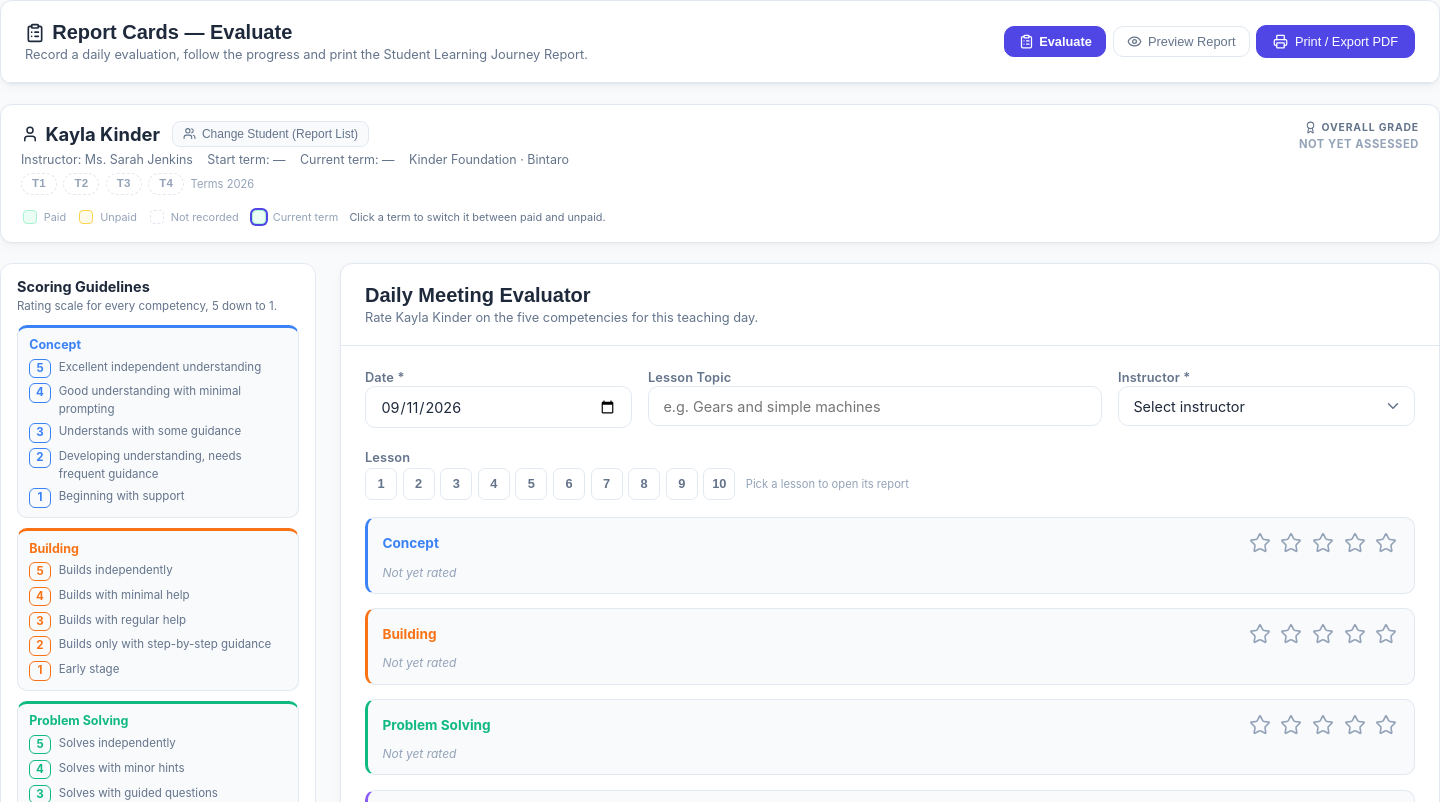
a student with no evaluations (Req 3.4) › prints NOT YET ASSESSED with no number in the preview document
The image size is (1440, 802).
Click the button "Preview Report" at (1181, 42), box top-left (1113, 26), bottom-right (1250, 57)
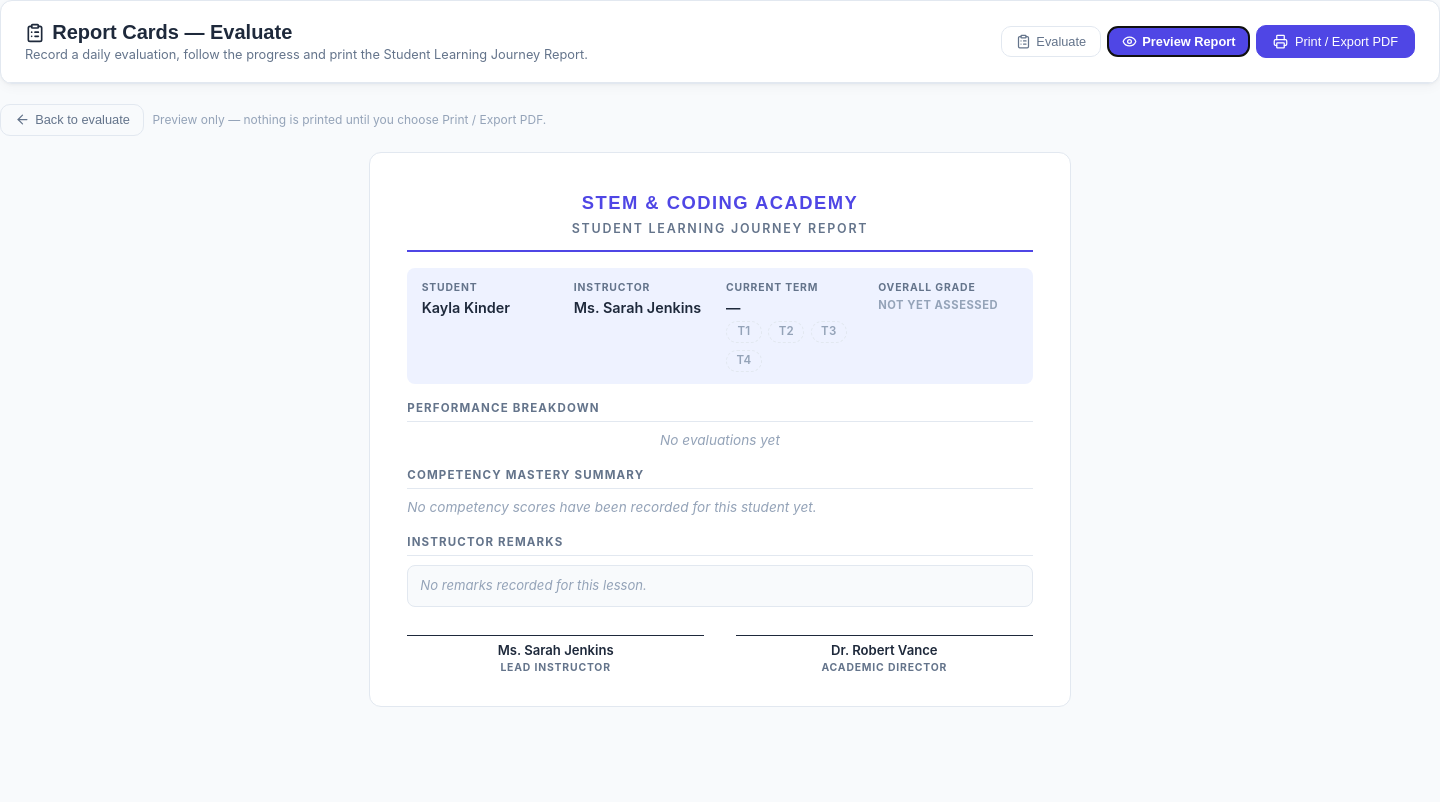
Expected: the text "NOT YET ASSESSED" is shown, top-left (878, 297), bottom-right (1018, 313)
Now the element with id "report-card-print" is shown, box top-left (368, 152), bottom-right (1072, 707)
